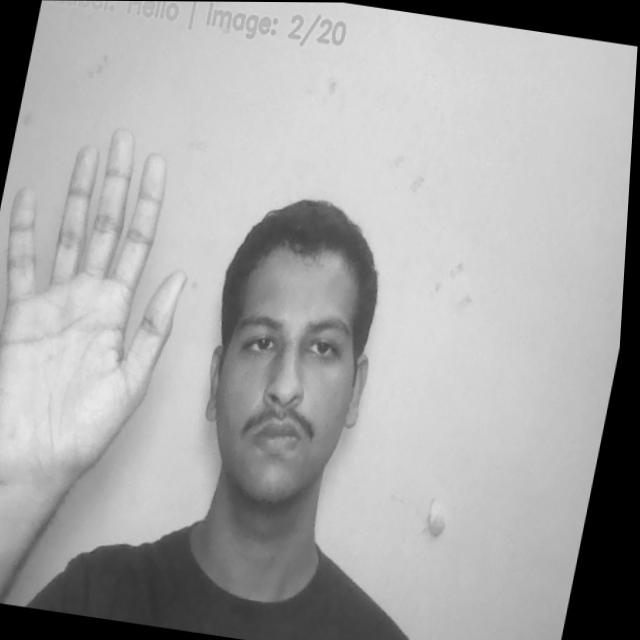Hello: (0, 118, 216, 510)
